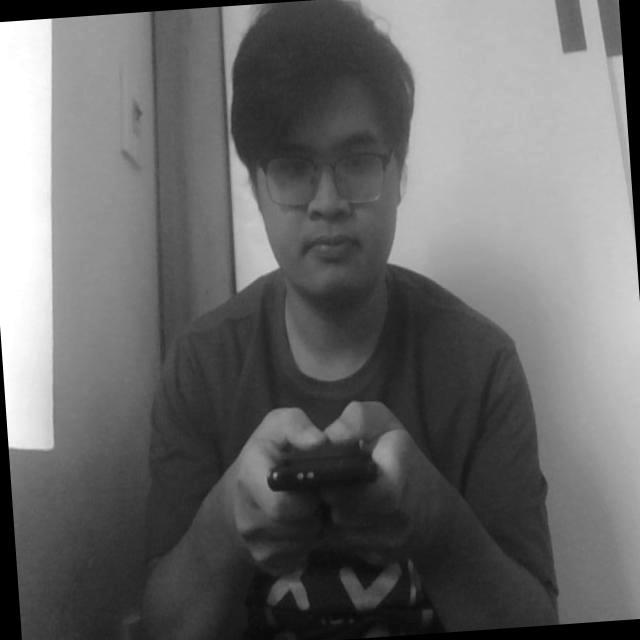phone: (258, 409, 397, 522)
